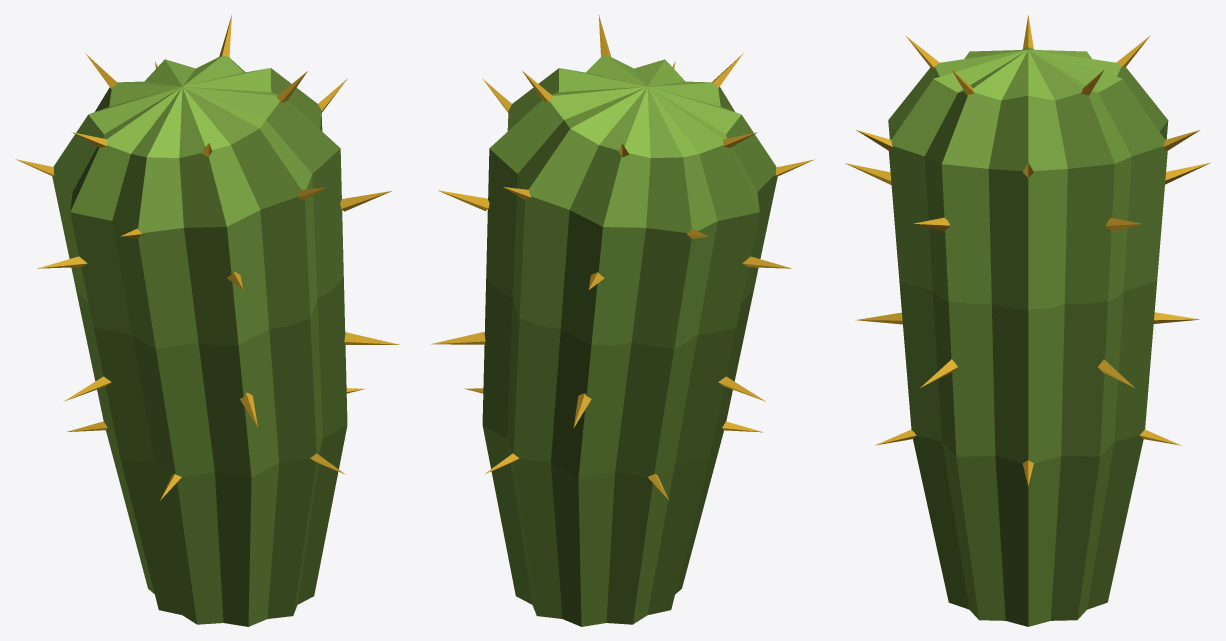
File: CS_Plant_01_L1.fbx
3 renders of one model, left to right at view 1: azimuth 30°, elevation 25°; view 2: azimuth 150°, elevation 25°; view 3: azimuth 270°, elevation 25°, orthographic.
Visible parts, largest first — view 1: Plant_01_L1_a; view 2: Plant_01_L1_a; view 3: Plant_01_L1_a.
Boxes of the visible parts, bbox=[...] form: Plant_01_L1_a: bbox=[15, 15, 399, 626]; Plant_01_L1_a: bbox=[430, 14, 814, 626]; Plant_01_L1_a: bbox=[845, 15, 1210, 626].
Size of the model in its own units: 0.1562 by 0.2453 by 0.1509.
